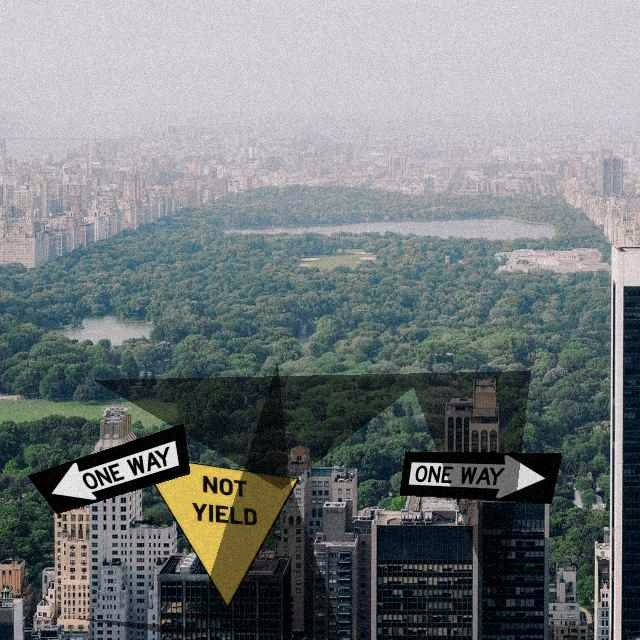NOT_YIELD: (136, 454, 299, 608)
ONE_WAY_ left: (27, 423, 190, 514)
ONE_WAY_ right: (399, 451, 562, 504)
